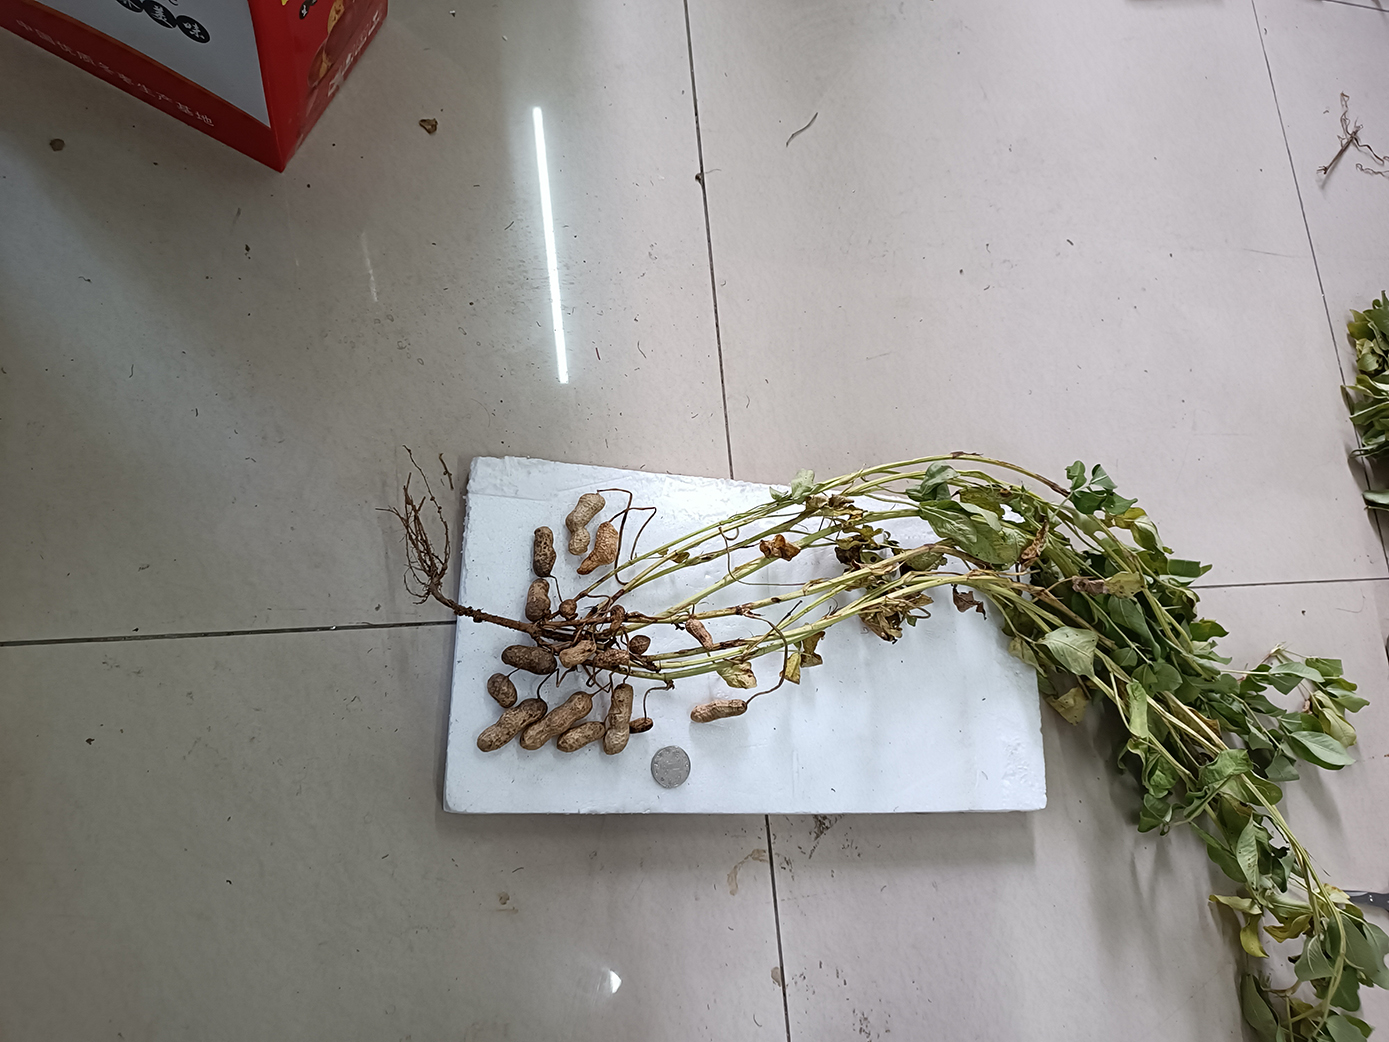h: (522, 693, 593, 751), (476, 701, 547, 752), (566, 493, 605, 555), (577, 522, 620, 575), (604, 684, 630, 754), (557, 722, 604, 754), (690, 699, 748, 723), (487, 673, 518, 708), (525, 579, 549, 623), (559, 640, 595, 669), (685, 620, 714, 651), (595, 650, 630, 669), (629, 633, 651, 655), (609, 605, 624, 634), (627, 718, 653, 733), (559, 600, 577, 618)
l: (501, 645, 557, 676), (532, 526, 557, 576)
